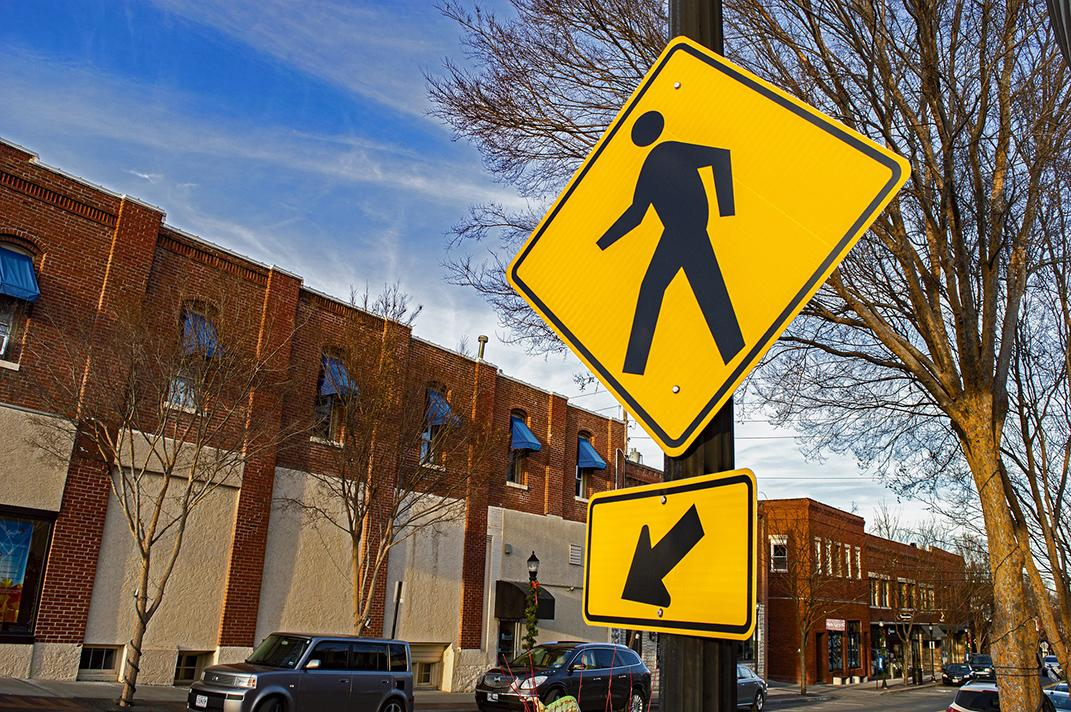car: (177, 624, 417, 712), (470, 633, 655, 712)
traffic sign: (489, 32, 916, 682)
